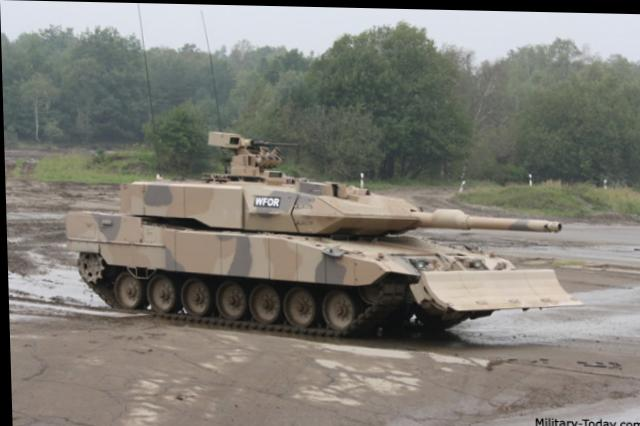tank: (78, 137, 555, 346)
